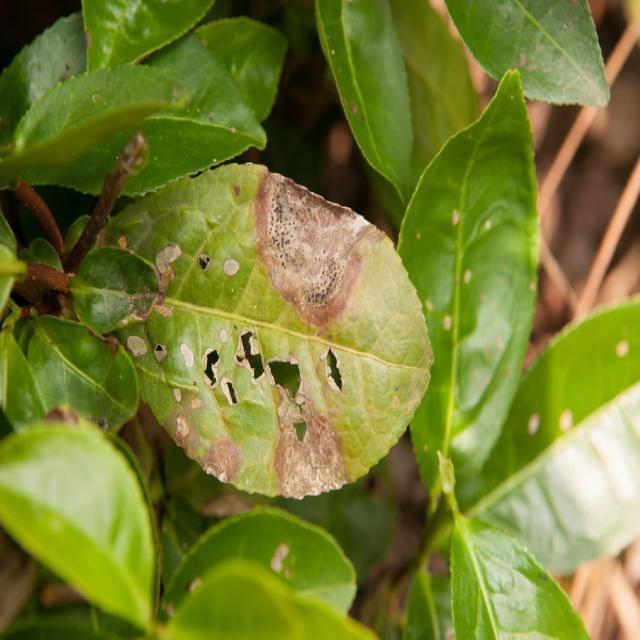Tea cloud leaf blight: (171, 342, 352, 506), (253, 148, 372, 325), (121, 238, 236, 373)
